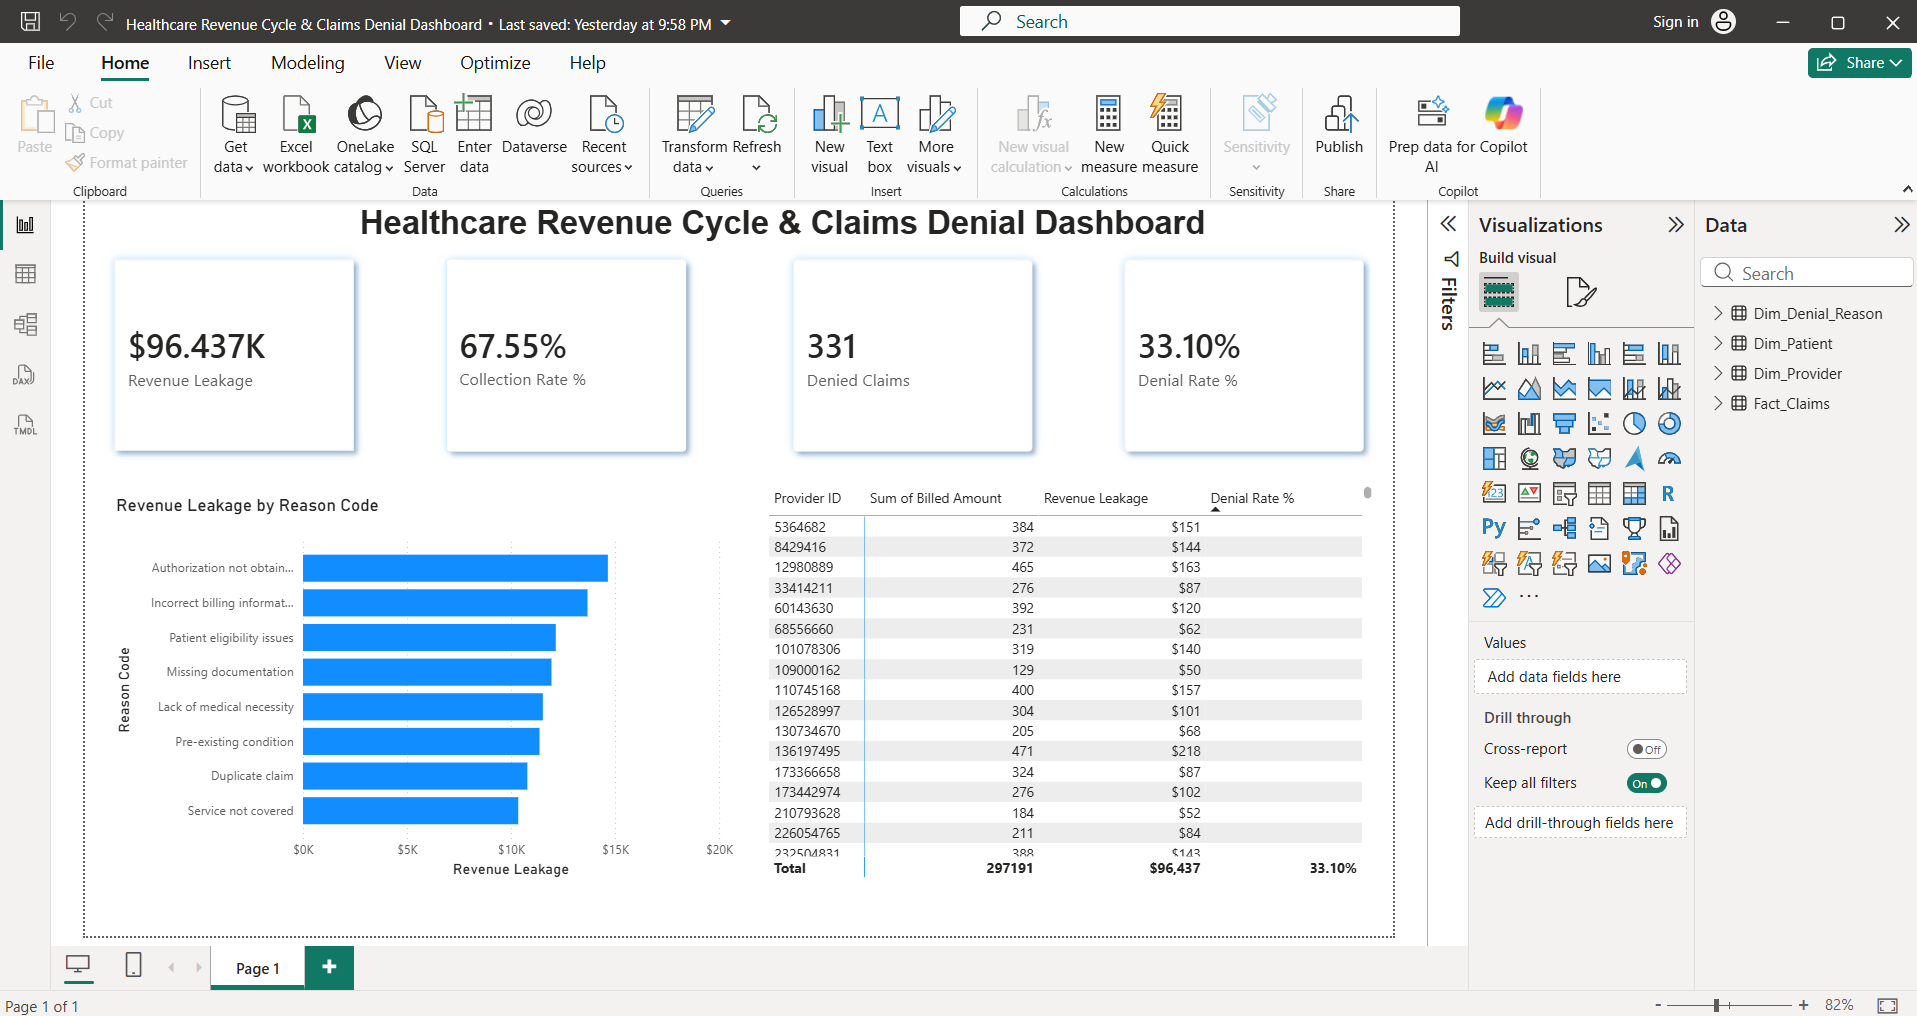

Layout of this report page (visuals, bound fields, positions):
{"tool":"powerbi","page":{"name":"Page 1","canvas":[1280,720],"ordinal":0},"visuals":[{"type":"cardVisual","fields":{"Data":["Fact_Claims.Revenue Leakage"]},"box":[0,29.3,292.3,245.8],"z":0},{"type":"cardVisual","fields":{"Data":["Fact_Claims.Collection Rate %"]},"box":[325.3,29.3,292,246],"z":1},{"type":"cardVisual","fields":{"Data":["Fact_Claims.Denied Claims"]},"box":[664,29.3,292,246],"z":2},{"type":"cardVisual","fields":{"Data":["Fact_Claims.Denial Rate %"]},"box":[988,29.3,292,246],"z":3},{"type":"clusteredBarChart","fields":{"Category":["Dim_Denial_Reason.Reason Code"],"Y":["Fact_Claims.Revenue Leakage"]},"box":[25.7,288.6,613.9,379.1],"z":4},{"type":"pivotTable","fields":{"Rows":["Dim_Provider.Provider ID"],"Values":["Sum(Fact_Claims.Billed Amount)","Fact_Claims.Revenue Leakage","Fact_Claims.Denial Rate %"]},"box":[664,275.1,600.4,392.5],"z":5},{"type":"textbox","box":[84.4,0,1195.9,47.7],"z":6}]}

Visuals, with their boxes on the page's 1280x720 design canvas (x1, y1, x2, y2). These are canvas units, not pixel positions in the 1917x1016 screenshot, which may show the page scaled, cropped or inside an application window:
cardVisual - Fact_Claims.Revenue Leakage: x1=0 y1=29 x2=292 y2=275
cardVisual - Fact_Claims.Collection Rate %: x1=325 y1=29 x2=617 y2=275
cardVisual - Fact_Claims.Denied Claims: x1=664 y1=29 x2=956 y2=275
cardVisual - Fact_Claims.Denial Rate %: x1=988 y1=29 x2=1280 y2=275
clusteredBarChart - Dim_Denial_Reason.Reason Code x Fact_Claims.Revenue Leakage: x1=26 y1=289 x2=640 y2=668
pivotTable - Dim_Provider.Provider ID x Sum(Fact_Claims.Billed Amount): x1=664 y1=275 x2=1264 y2=668
textbox: x1=84 y1=0 x2=1280 y2=48
